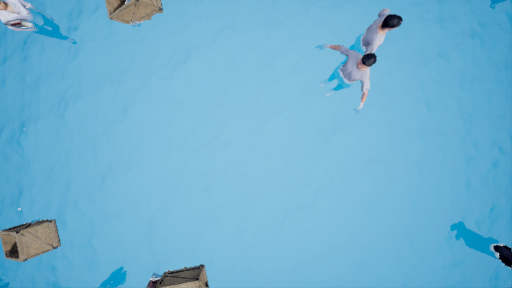person: (313, 42, 379, 107), (1, 1, 77, 50), (348, 11, 409, 59)
